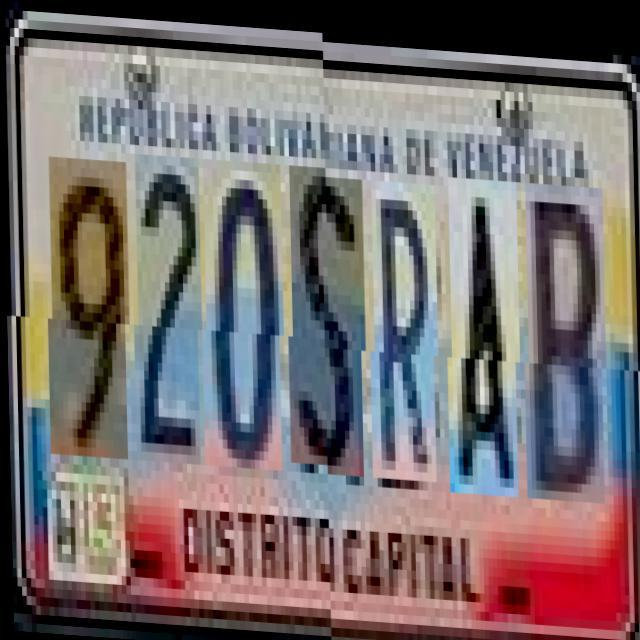2: (134, 161, 203, 471)
9: (48, 165, 130, 467)
A: (448, 170, 522, 490)
B: (524, 175, 608, 494)
O: (203, 165, 285, 476)
R: (370, 175, 440, 476)
S: (289, 170, 367, 472)
